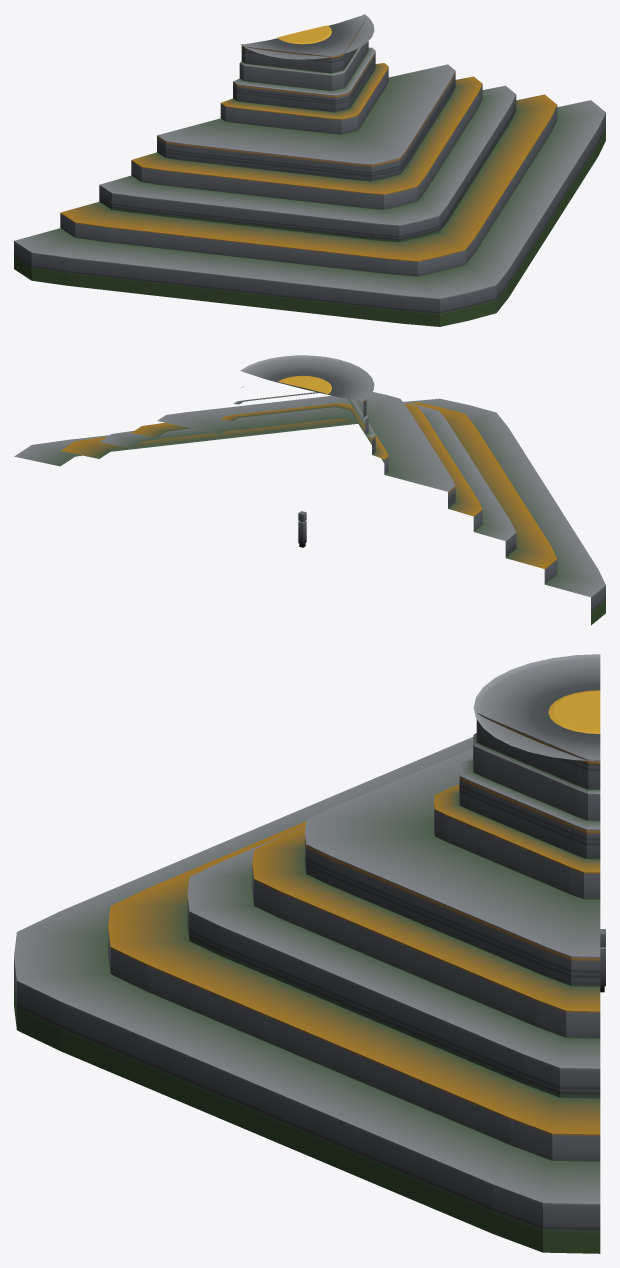
The model's file is temple-s2-Dfolcjjh.glb.
3 views of the same model, one above another, from view 1: azimuth 30°, elevation 25°; view 2: azimuth 150°, elevation 25°; view 3: azimuth 270°, elevation 25° (orthographic). The views are drawn at different scales.
Visible parts, largest first — view 1: sc_landmark_1; view 2: sc_landmark_1; view 3: sc_landmark_1.
Boxes of the visible parts, box(x1,y1,x2,y2) form: sc_landmark_1: box(14, 14, 605, 326); sc_landmark_1: box(14, 355, 605, 625); sc_landmark_1: box(14, 654, 600, 1253).
Bounding box in the file's own units: 758 × 213 × 383.
